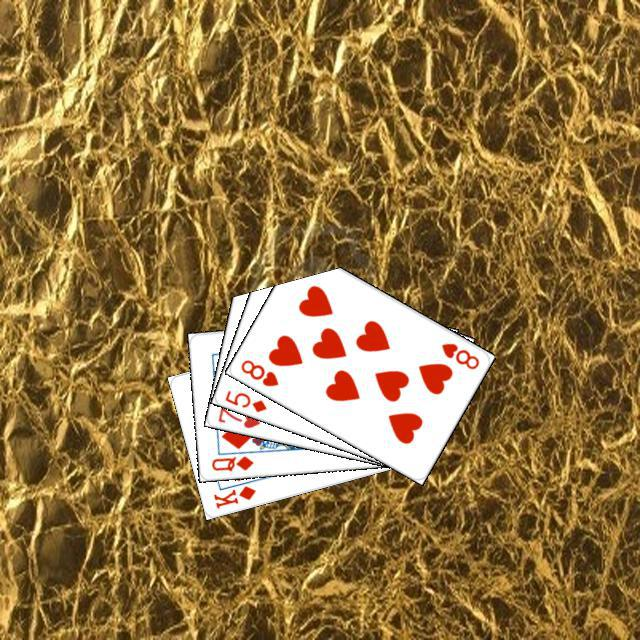5d: (220, 385, 268, 414)
7h: (213, 402, 262, 430)
8h: (436, 338, 481, 371), (236, 355, 280, 388)
Kd: (208, 481, 257, 510)
Qd: (207, 451, 255, 473)
